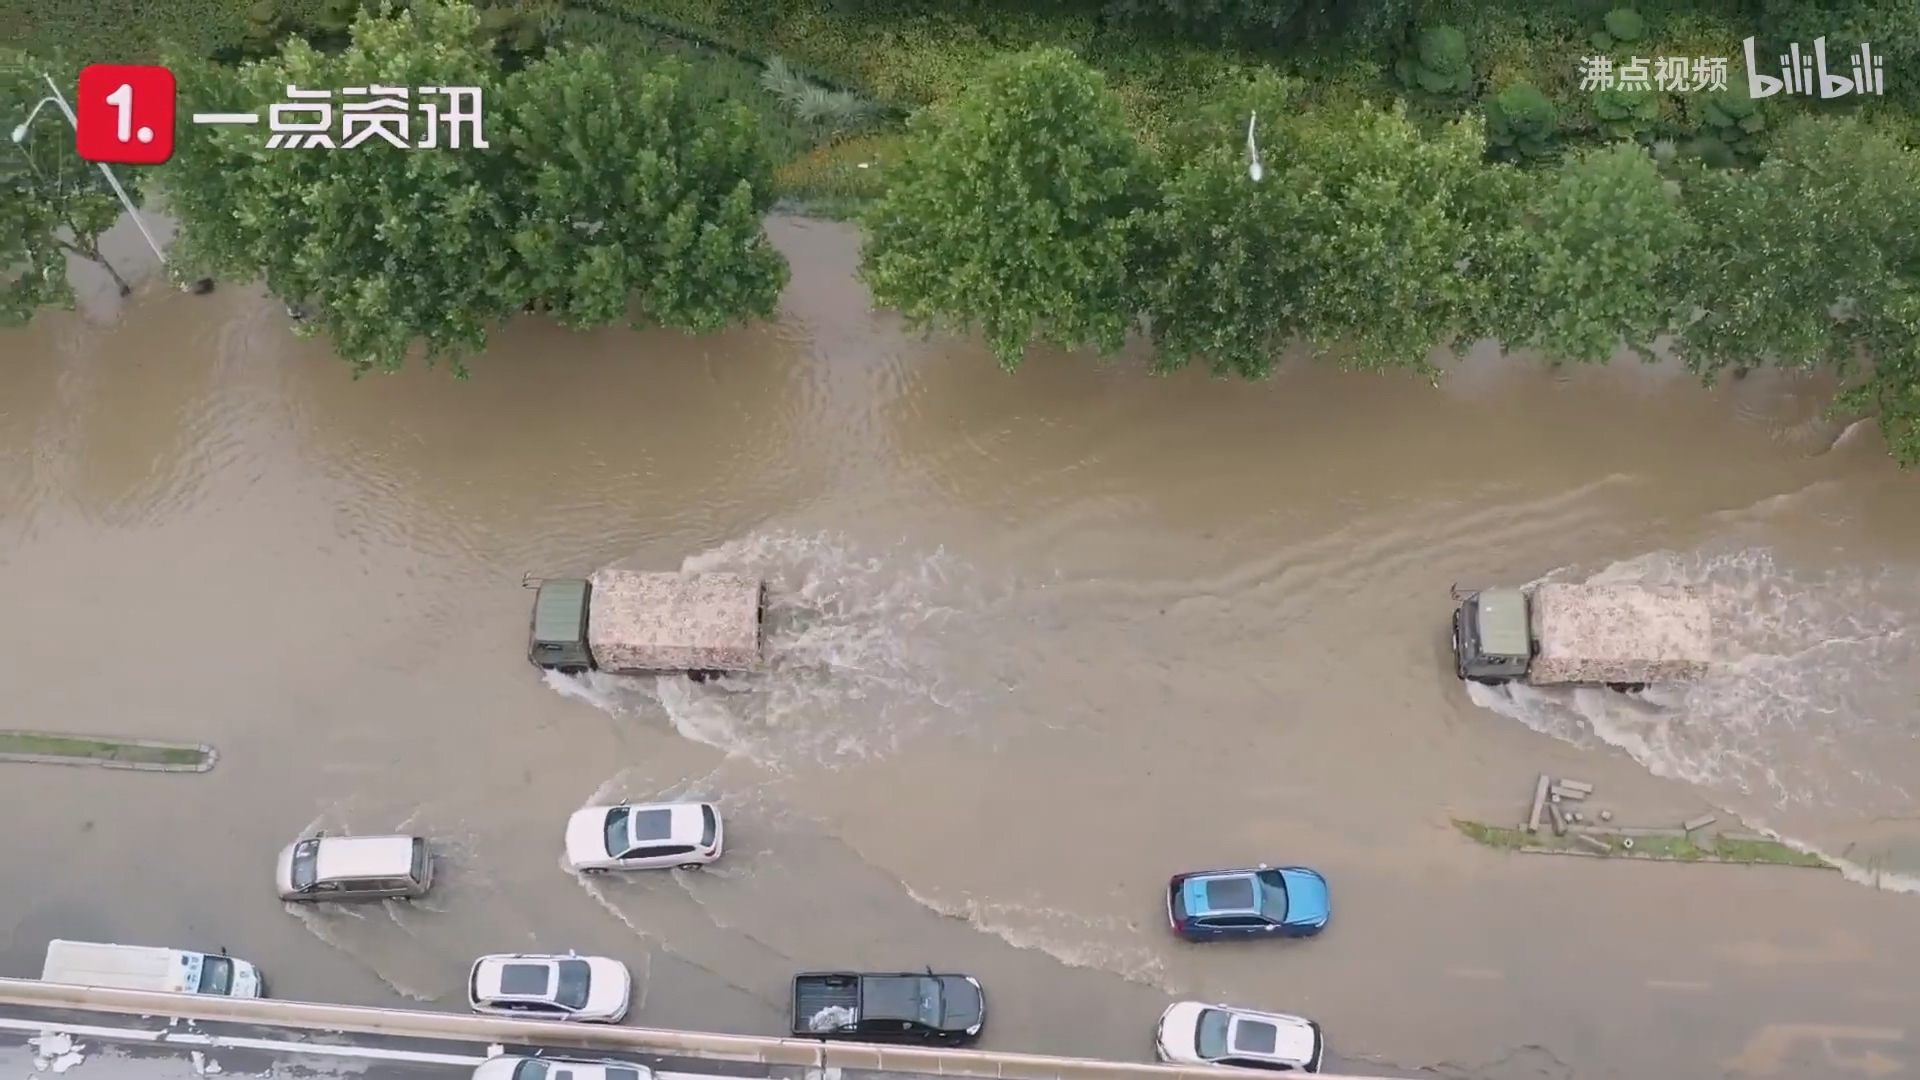puddle: (45, 309, 1900, 1077)
